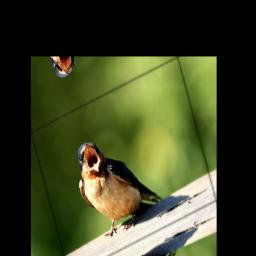Swallow: (68, 114, 166, 248)
